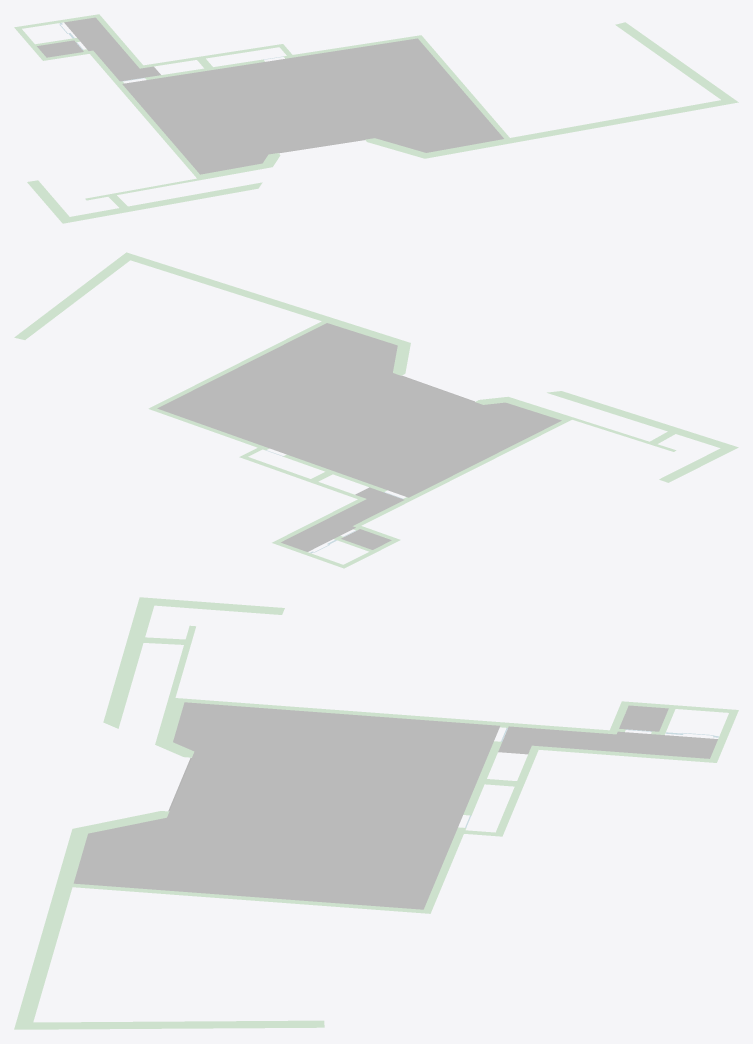
Rendered from floor-489100.glb.
3 views of the same model, one above another, from view 1: azimuth 30°, elevation 25°; view 2: azimuth 150°, elevation 25°; view 3: azimuth 270°, elevation 25° (orthographic). The views are drawn at different scales.
Visible parts, largest first — view 1: SectionBody_4,9262e225-3d3e-4223-af8c-39a43748f051, SectionBody_39,79dacf31-d170-4d42-8cd6-e2502d9dd912, SectionBody_5,f5be9884-1ec4-4bdf-83fe-4a4f57898bca, SectionBody_33,188ced9f-8953-4fa2-9da6-4d38ebbba89a, SectionBody_14,817ea7ed-bc4a-429e-8aee-e4c509cef56e, SectionBody_31,56e9920e-9171-40fc-aef1-674cbf696aba, SectionBody_35,97a04eb2-c051-4e70-8a77-125c31b0593a, SectionBody_34,411345c2-e148-4ff6-b8ca-cf33021b04e4, SectionBody_28,4a787c18-0a65-4c3d-a247-b4a747b72b2c, SectionBody_32,5d698d65-98b9-433e-8304-2e90b4b09615, SectionBody_15,f6f1b012-7715-42a3-9133-fb42fe1856f1, SectionBody_13,773b7b34-930c-4fec-8f25-2490a8cc6f6e (+2 smaller); view 2: SectionBody_4,9262e225-3d3e-4223-af8c-39a43748f051, SectionBody_39,79dacf31-d170-4d42-8cd6-e2502d9dd912, SectionBody_5,f5be9884-1ec4-4bdf-83fe-4a4f57898bca, SectionBody_33,188ced9f-8953-4fa2-9da6-4d38ebbba89a, SectionBody_14,817ea7ed-bc4a-429e-8aee-e4c509cef56e, SectionBody_31,56e9920e-9171-40fc-aef1-674cbf696aba, SectionBody_35,97a04eb2-c051-4e70-8a77-125c31b0593a, SectionBody_28,4a787c18-0a65-4c3d-a247-b4a747b72b2c, SectionBody_34,411345c2-e148-4ff6-b8ca-cf33021b04e4; view 3: SectionBody_4,9262e225-3d3e-4223-af8c-39a43748f051, SectionBody_39,79dacf31-d170-4d42-8cd6-e2502d9dd912, SectionBody_5,f5be9884-1ec4-4bdf-83fe-4a4f57898bca, SectionBody_14,817ea7ed-bc4a-429e-8aee-e4c509cef56e, SectionBody_33,188ced9f-8953-4fa2-9da6-4d38ebbba89a, SectionBody_31,56e9920e-9171-40fc-aef1-674cbf696aba, SectionBody_35,97a04eb2-c051-4e70-8a77-125c31b0593a, SectionBody_28,4a787c18-0a65-4c3d-a247-b4a747b72b2c, SectionBody_34,411345c2-e148-4ff6-b8ca-cf33021b04e4, SectionBody_32,5d698d65-98b9-433e-8304-2e90b4b09615, SectionBody_41,ffc838d8-f05f-4896-900f-1263455c88a6, SectionBody_15,f6f1b012-7715-42a3-9133-fb42fe1856f1 (+2 smaller).
Boxes of the visible parts, bbox=[...] form: SectionBody_4,9262e225-3d3e-4223-af8c-39a43748f051: bbox=[122, 38, 503, 174]; SectionBody_39,79dacf31-d170-4d42-8cd6-e2502d9dd912: bbox=[64, 17, 160, 81]; SectionBody_5,f5be9884-1ec4-4bdf-83fe-4a4f57898bca: bbox=[413, 98, 738, 158]; SectionBody_33,188ced9f-8953-4fa2-9da6-4d38ebbba89a: bbox=[59, 182, 262, 223]; SectionBody_14,817ea7ed-bc4a-429e-8aee-e4c509cef56e: bbox=[615, 22, 731, 99]; SectionBody_31,56e9920e-9171-40fc-aef1-674cbf696aba: bbox=[90, 53, 199, 175]; SectionBody_35,97a04eb2-c051-4e70-8a77-125c31b0593a: bbox=[416, 35, 509, 138]; SectionBody_34,411345c2-e148-4ff6-b8ca-cf33021b04e4: bbox=[37, 40, 83, 57]; SectionBody_28,4a787c18-0a65-4c3d-a247-b4a747b72b2c: bbox=[27, 180, 69, 218]; SectionBody_32,5d698d65-98b9-433e-8304-2e90b4b09615: bbox=[138, 44, 284, 68]; SectionBody_15,f6f1b012-7715-42a3-9133-fb42fe1856f1: bbox=[287, 36, 417, 57]; SectionBody_13,773b7b34-930c-4fec-8f25-2490a8cc6f6e: bbox=[120, 56, 288, 83]; SectionBody_4,9262e225-3d3e-4223-af8c-39a43748f051: bbox=[157, 323, 561, 497]; SectionBody_39,79dacf31-d170-4d42-8cd6-e2502d9dd912: bbox=[281, 487, 404, 551]; SectionBody_5,f5be9884-1ec4-4bdf-83fe-4a4f57898bca: bbox=[121, 252, 410, 349]; SectionBody_33,188ced9f-8953-4fa2-9da6-4d38ebbba89a: bbox=[547, 391, 738, 451]; SectionBody_14,817ea7ed-bc4a-429e-8aee-e4c509cef56e: bbox=[14, 257, 129, 339]; SectionBody_31,56e9920e-9171-40fc-aef1-674cbf696aba: bbox=[357, 420, 566, 525]; SectionBody_35,97a04eb2-c051-4e70-8a77-125c31b0593a: bbox=[148, 321, 326, 410]; SectionBody_28,4a787c18-0a65-4c3d-a247-b4a747b72b2c: bbox=[659, 448, 730, 482]; SectionBody_34,411345c2-e148-4ff6-b8ca-cf33021b04e4: bbox=[341, 529, 391, 549]; SectionBody_4,9262e225-3d3e-4223-af8c-39a43748f051: bbox=[73, 702, 499, 909]; SectionBody_39,79dacf31-d170-4d42-8cd6-e2502d9dd912: bbox=[498, 726, 717, 758]; SectionBody_5,f5be9884-1ec4-4bdf-83fe-4a4f57898bca: bbox=[14, 825, 90, 1029]; SectionBody_14,817ea7ed-bc4a-429e-8aee-e4c509cef56e: bbox=[31, 1020, 324, 1029]; SectionBody_33,188ced9f-8953-4fa2-9da6-4d38ebbba89a: bbox=[103, 597, 156, 728]; SectionBody_31,56e9920e-9171-40fc-aef1-674cbf696aba: bbox=[184, 698, 609, 733]; SectionBody_35,97a04eb2-c051-4e70-8a77-125c31b0593a: bbox=[72, 883, 431, 913]; SectionBody_28,4a787c18-0a65-4c3d-a247-b4a747b72b2c: bbox=[154, 598, 284, 614]; SectionBody_34,411345c2-e148-4ff6-b8ca-cf33021b04e4: bbox=[619, 705, 668, 731]; SectionBody_32,5d698d65-98b9-433e-8304-2e90b4b09615: bbox=[494, 745, 539, 836]; SectionBody_41,ffc838d8-f05f-4896-900f-1263455c88a6: bbox=[539, 746, 717, 762]; SectionBody_15,f6f1b012-7715-42a3-9133-fb42fe1856f1: bbox=[424, 829, 465, 910].
Bounding box in the file's own units: 30107 × 0 × 21325.
